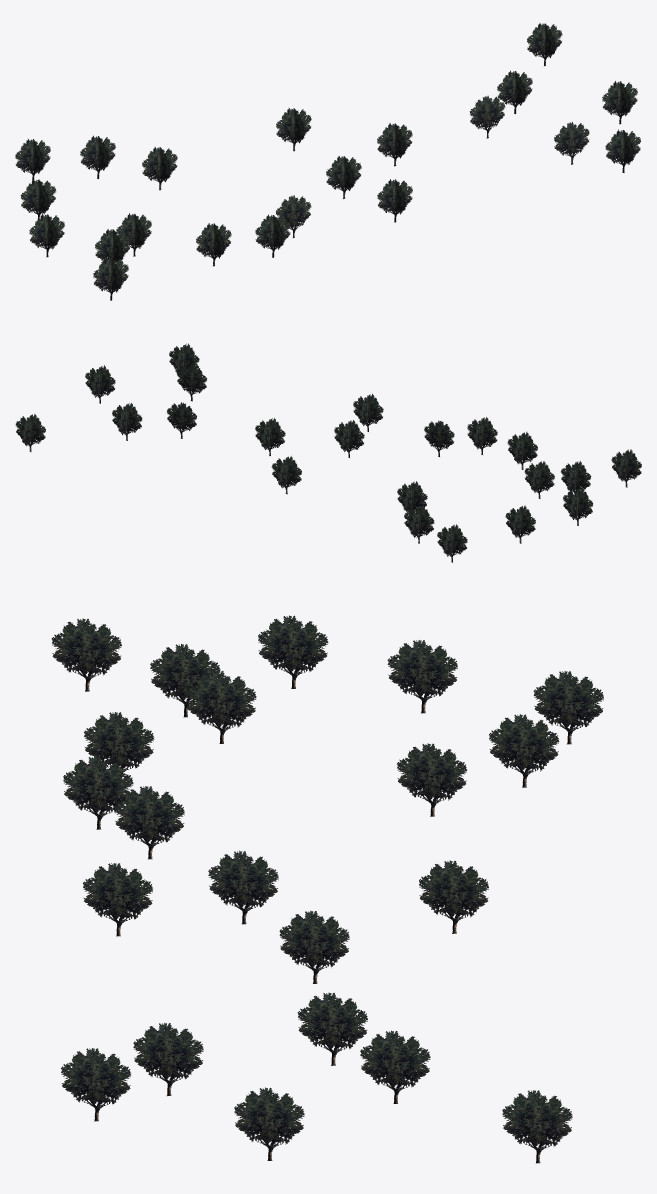
Rendered from planeTree10.FBX.
The picture shows the model from 3 angles, top to bottom: view 1: azimuth 30°, elevation 25°; view 2: azimuth 150°, elevation 25°; view 3: azimuth 270°, elevation 25°; orthographic projection. The views are drawn at different scales.
Parts seen in each view (by area): view 1: planeTree10; view 2: planeTree10; view 3: planeTree10.
Part boxes in pixels (left/top/right/bottom): planeTree10: left=15, top=23, right=640, bottom=300; planeTree10: left=15, top=343, right=641, bottom=562; planeTree10: left=51, top=615, right=603, bottom=1163.
Size of the model in its own units: 6415 by 441 by 2987.
